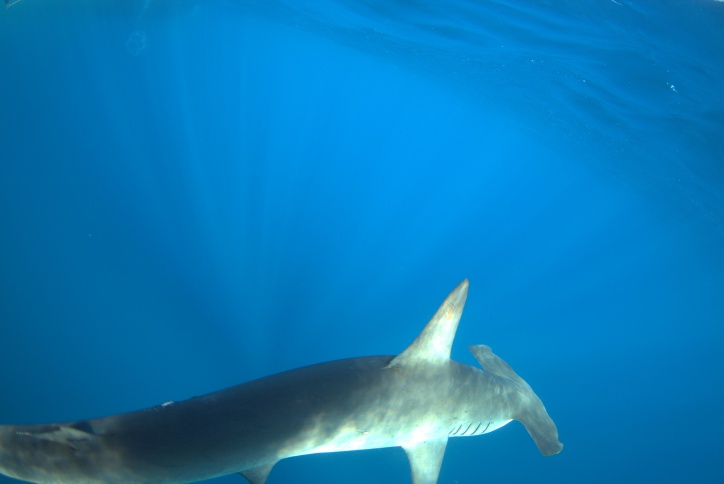Hammer: (5, 266, 625, 484)
